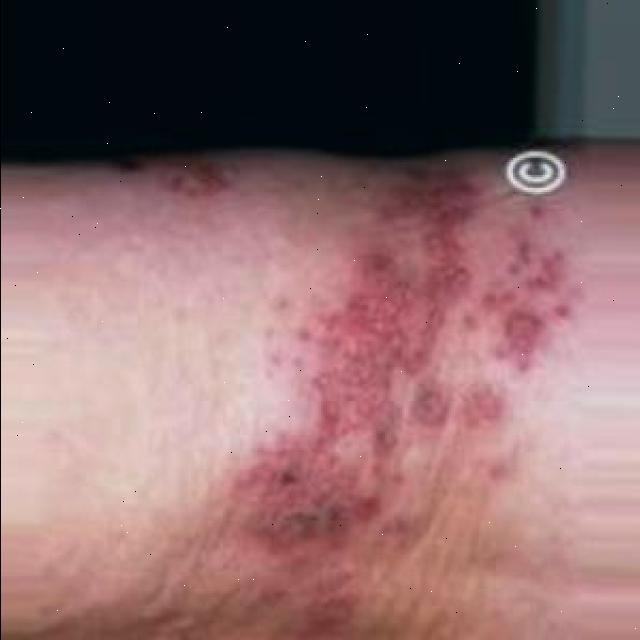Shingles: (199, 168, 569, 579)
